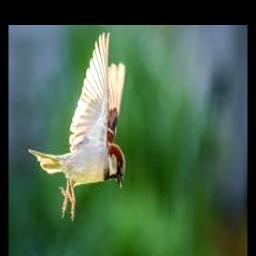Sparrow: (28, 32, 127, 220)
